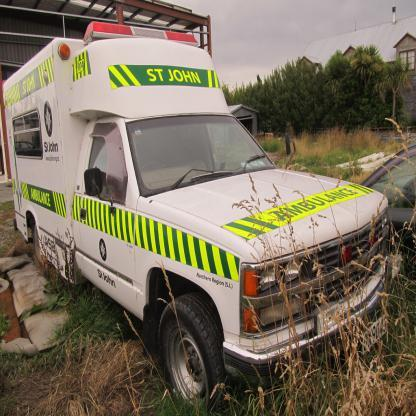Ambulance - v1 Ambulance last generate: (0, 18, 402, 414)
